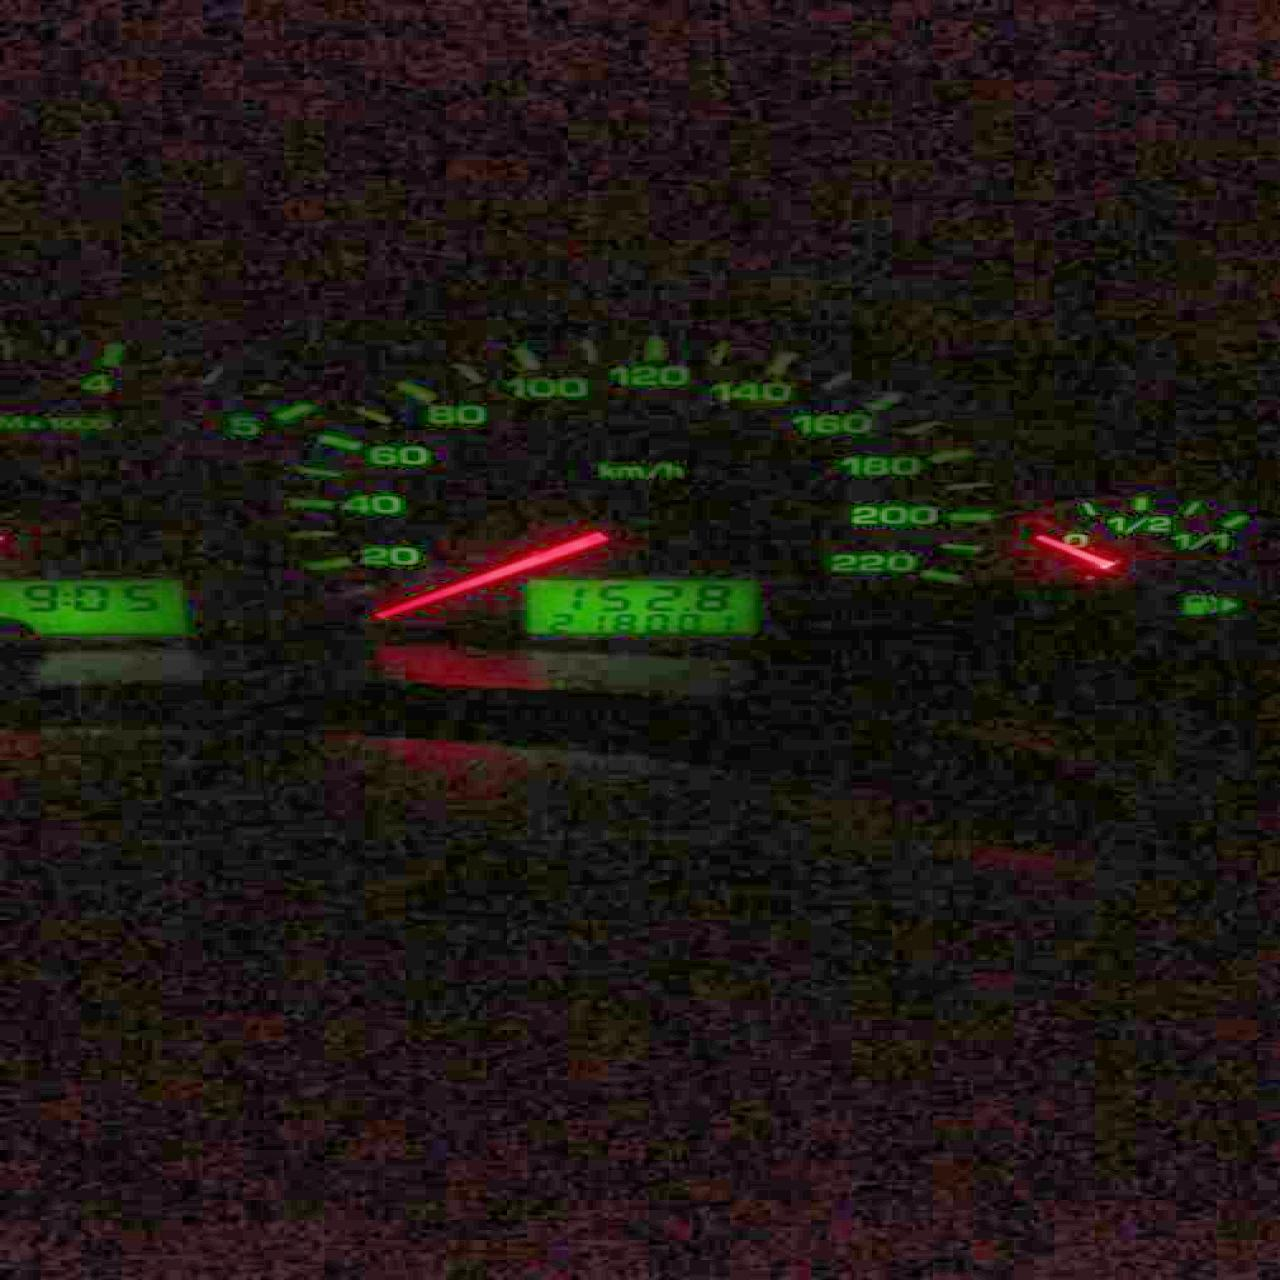-: (682, 605, 689, 611)
0: (674, 612, 700, 629), (644, 613, 667, 632)
1: (568, 585, 583, 610), (593, 614, 602, 632), (722, 614, 733, 629)
2: (644, 584, 679, 610), (545, 613, 570, 633)
5: (595, 583, 628, 610)
8: (694, 584, 728, 610), (611, 613, 634, 632)
odometer: (522, 578, 763, 638)
